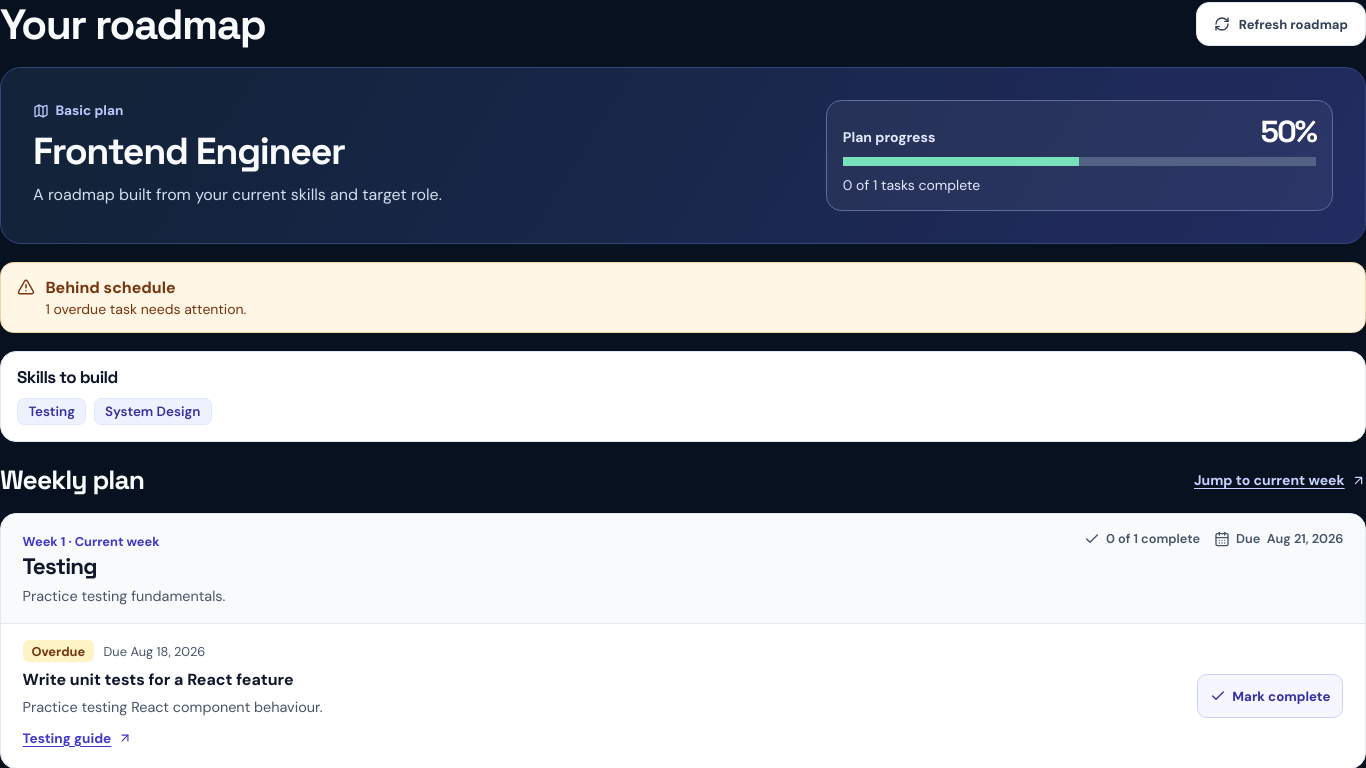
Test case: RoadmapPage › updates the task status and progress when the user completes a task
Click the button with aria-label "complete write unit tests for a react feature".
click(1270, 696)  # box [1197,674,1343,718]
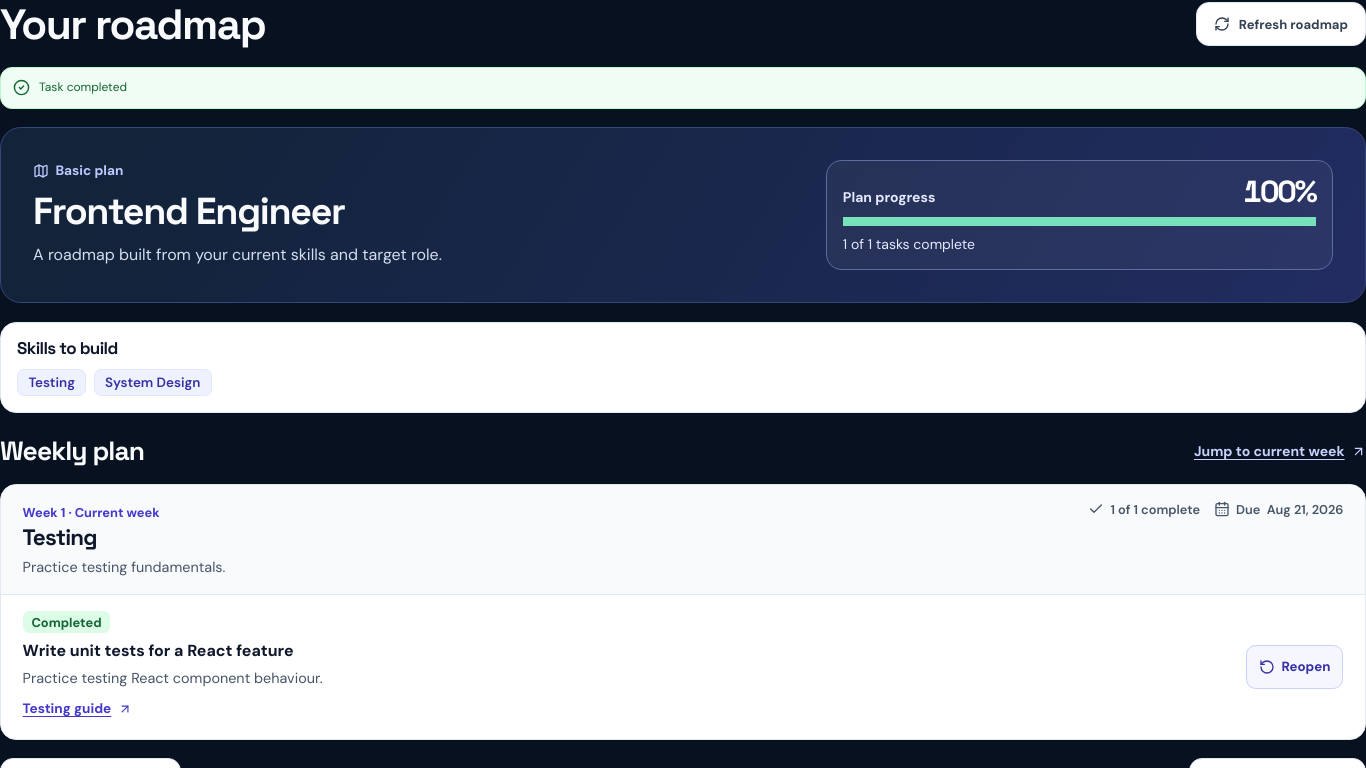
Check: the button with aria-label "reopen write unit tests for a react feature" is enabled, box [1246,645,1343,689]
Check: the text "Task completed" is shown, box [39,79,127,97]
